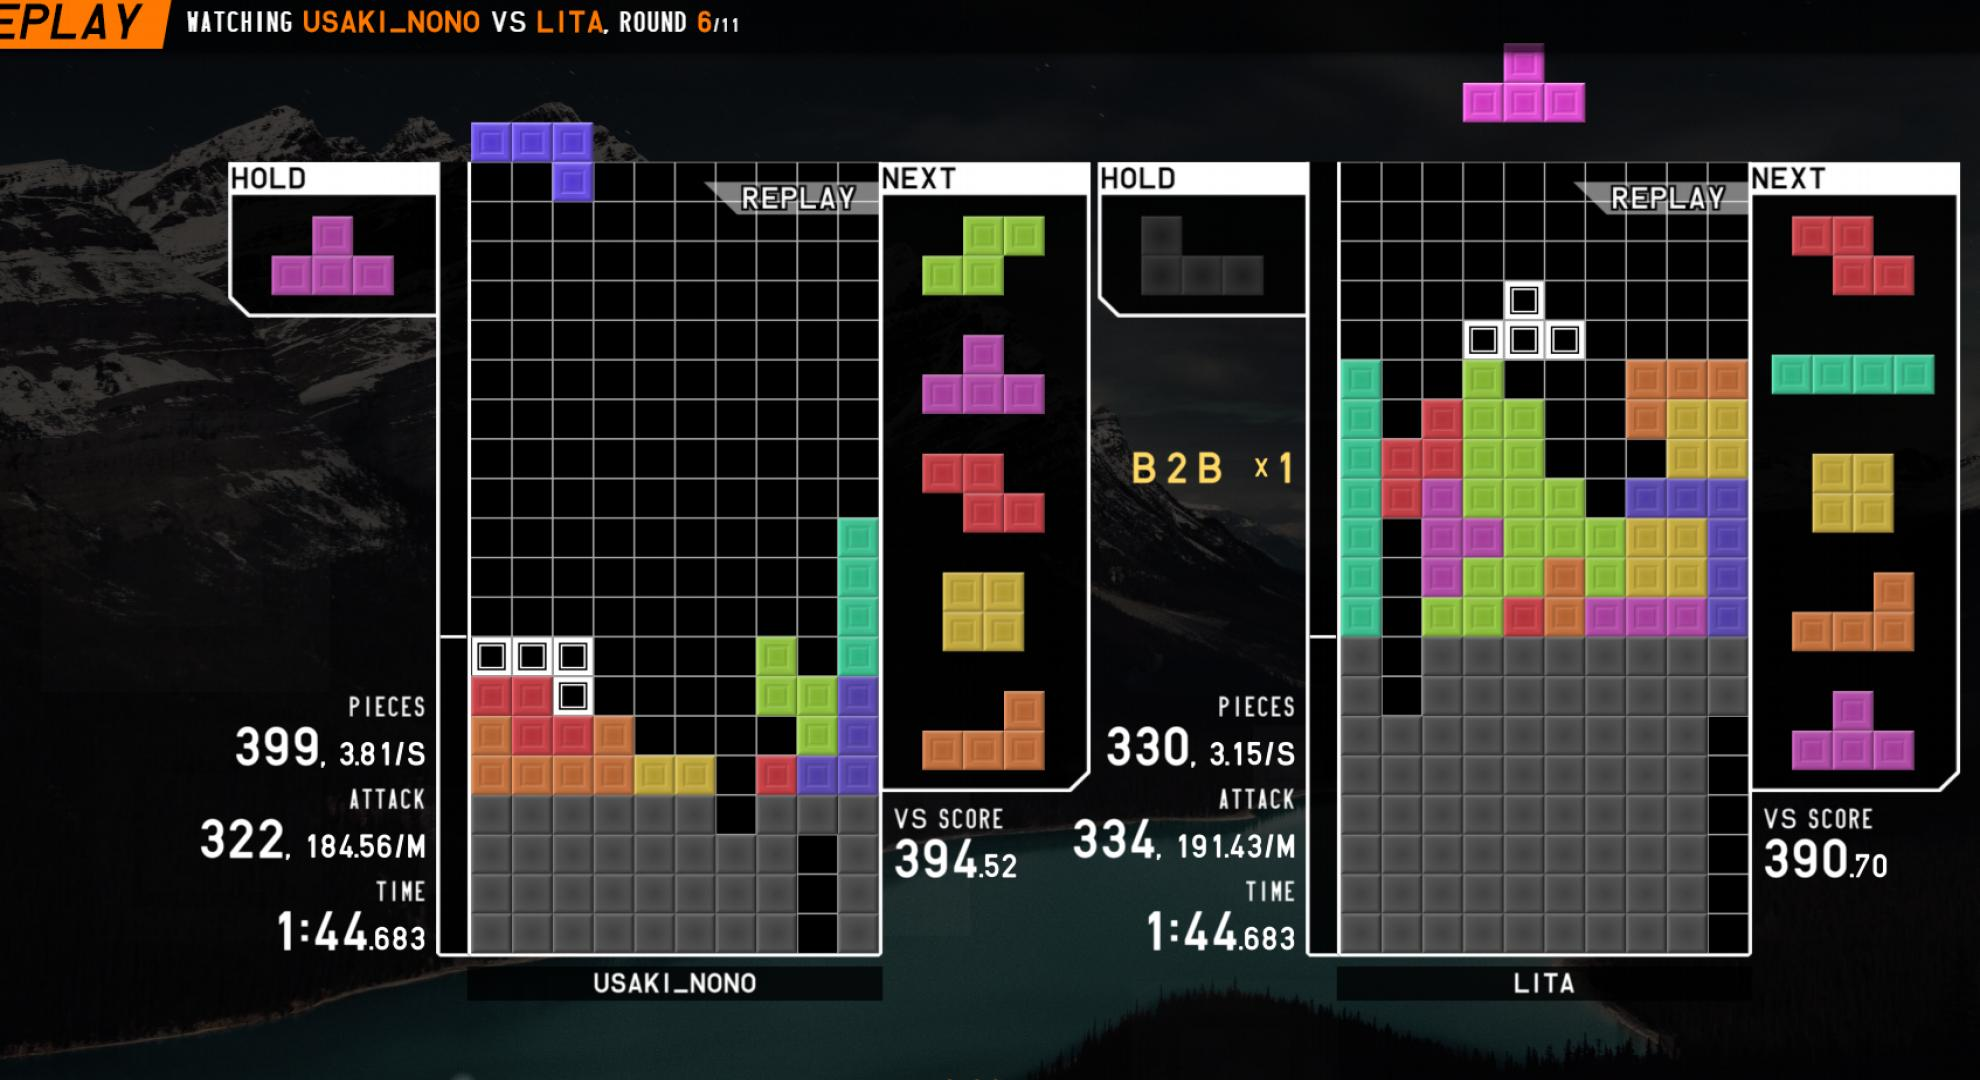tspin: (1540, 402, 1675, 524)
